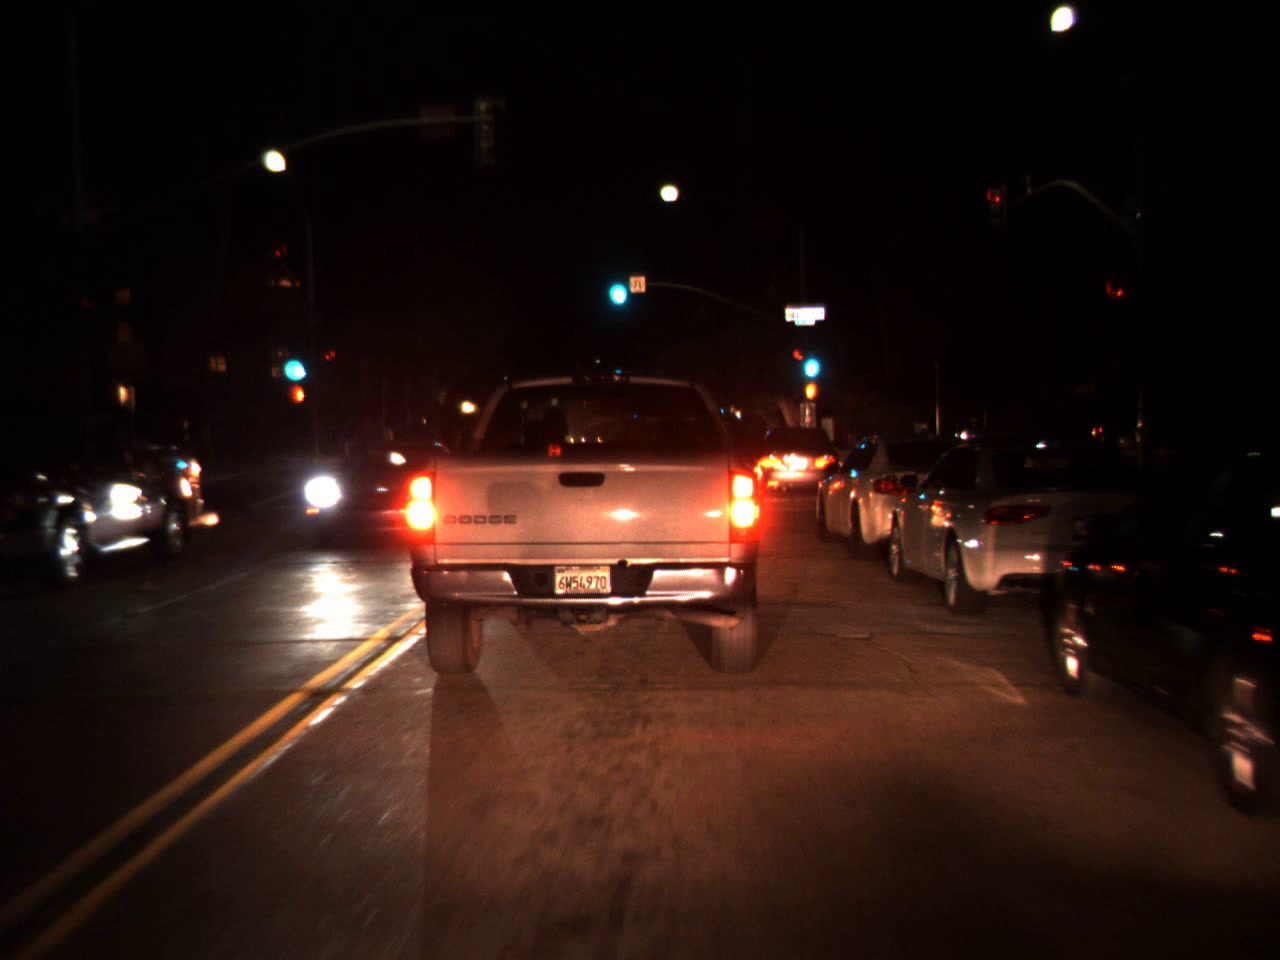go: (278, 332, 306, 389), (602, 256, 630, 313), (798, 334, 823, 385)
